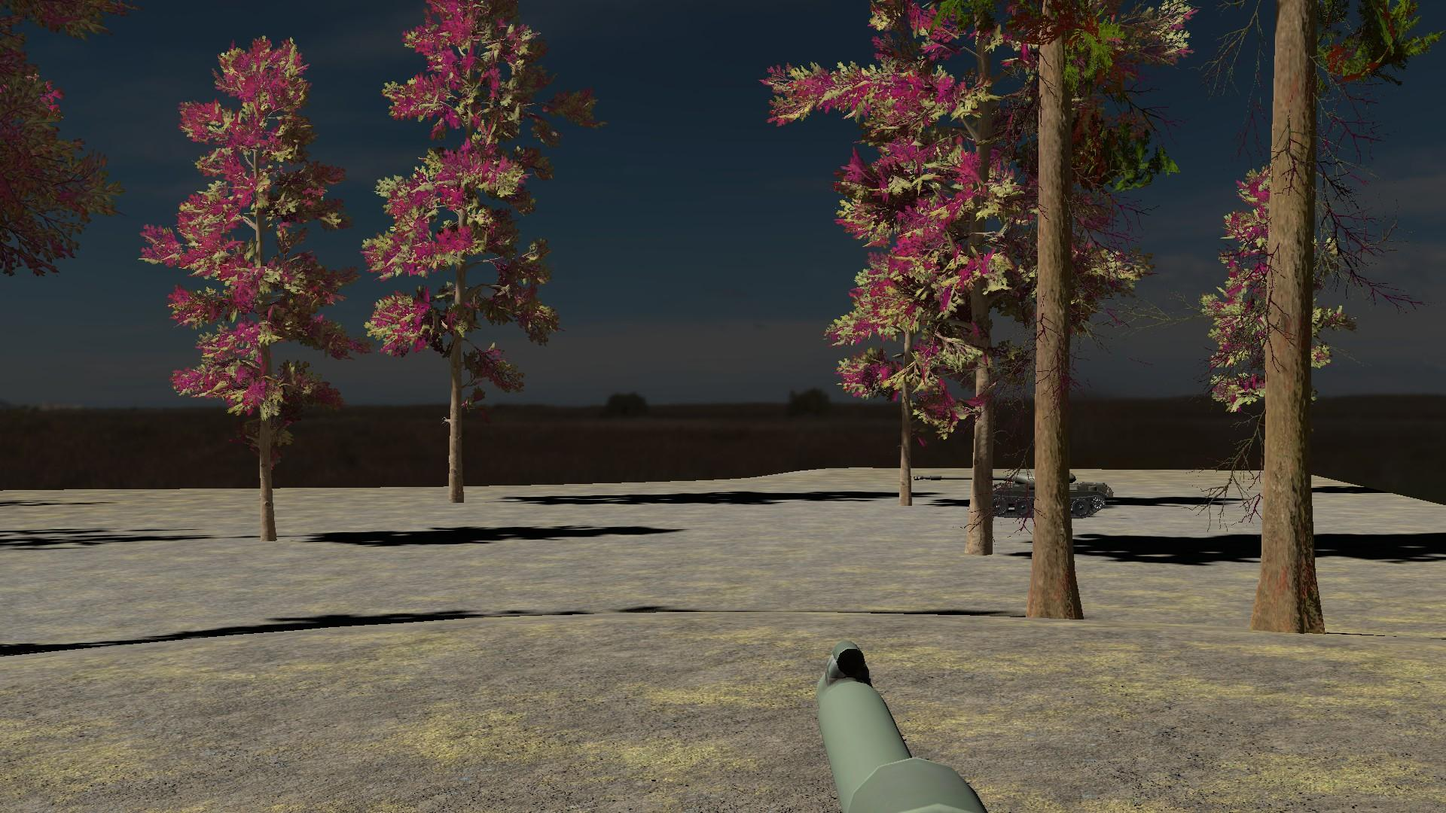Tank: (907, 457, 1118, 526)
